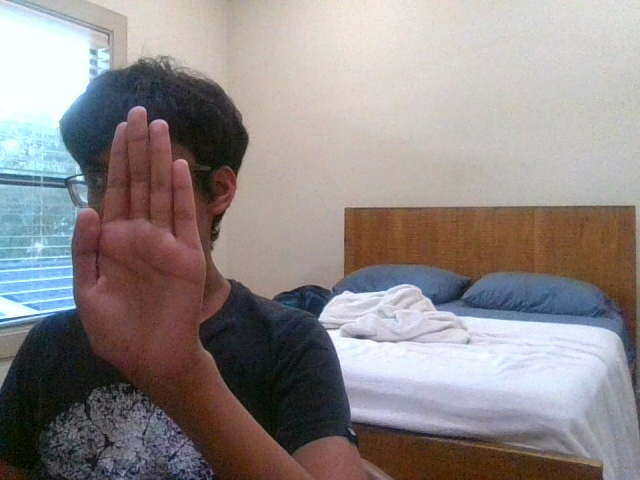hello: (71, 105, 207, 365)
